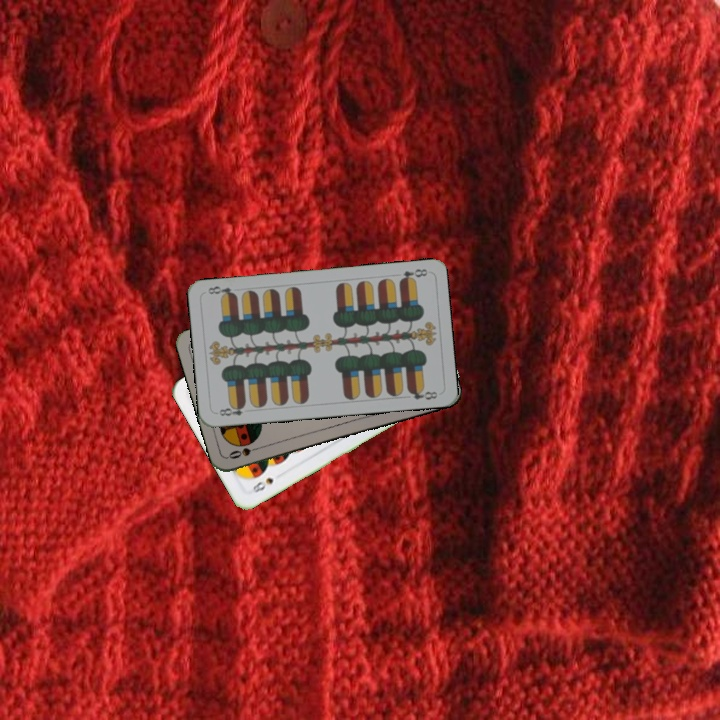E8: (395, 265, 430, 285), (213, 400, 248, 418)
S8: (248, 474, 276, 496)
SO: (224, 442, 264, 461)
